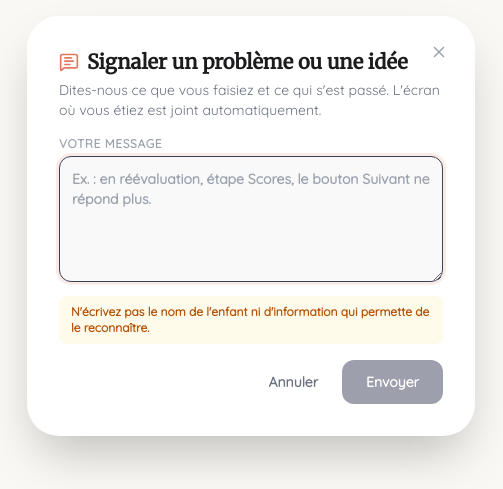
Test case: FeedbackModal › envoie le message avec sa provenance, sans e-mail hors démo, et remercie
Expected: the button "Envoyer" is disabled, [342,360,443,404]
Type "  Le bouton Suivant ne répond plus  " into the text box labelled "Votre message". click: (251, 219)
box: [59,156,443,282]
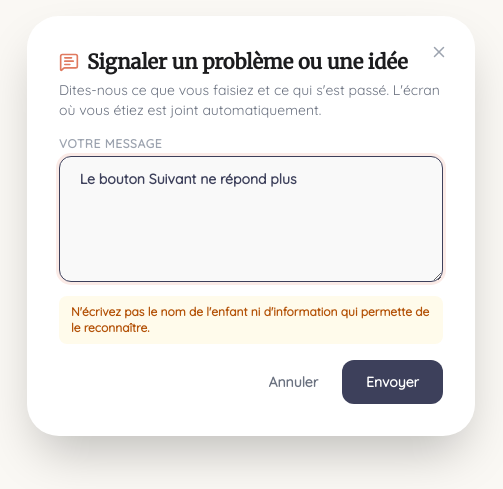
Click the button "Envoyer". click: (392, 382)
box: [342,360,443,404]
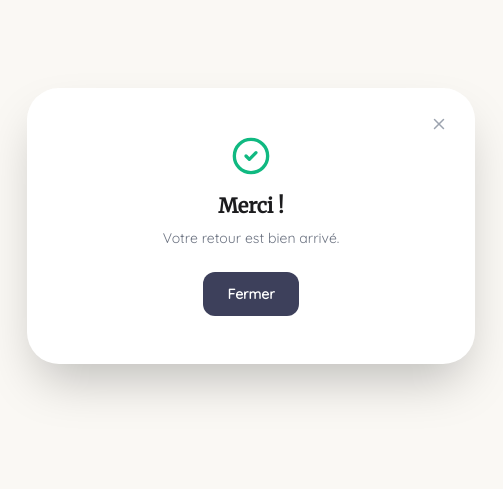
Expected: the heading "Merci !" is shown, [218,193,284,218]
